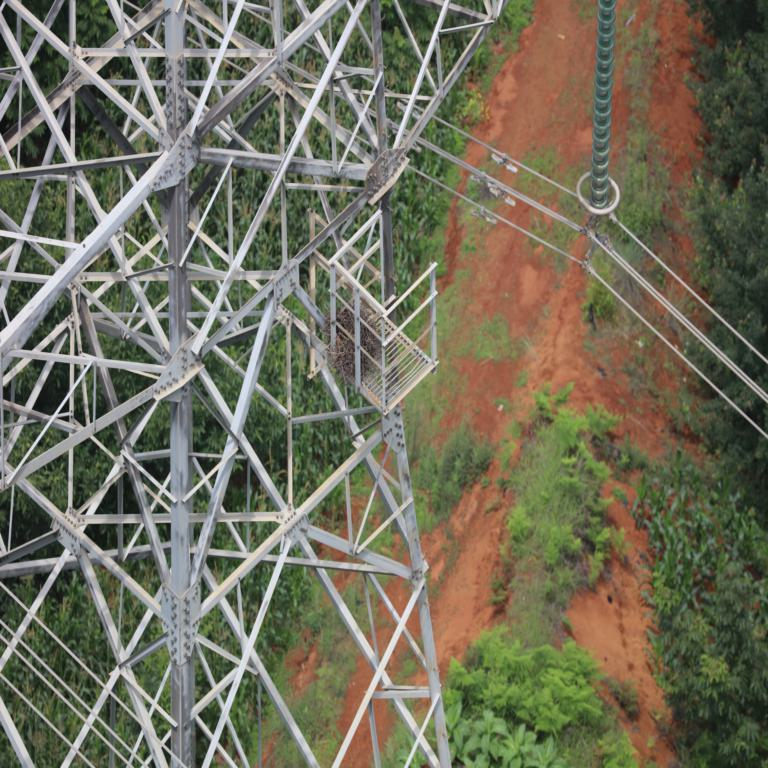nest: (322, 310, 375, 382)
